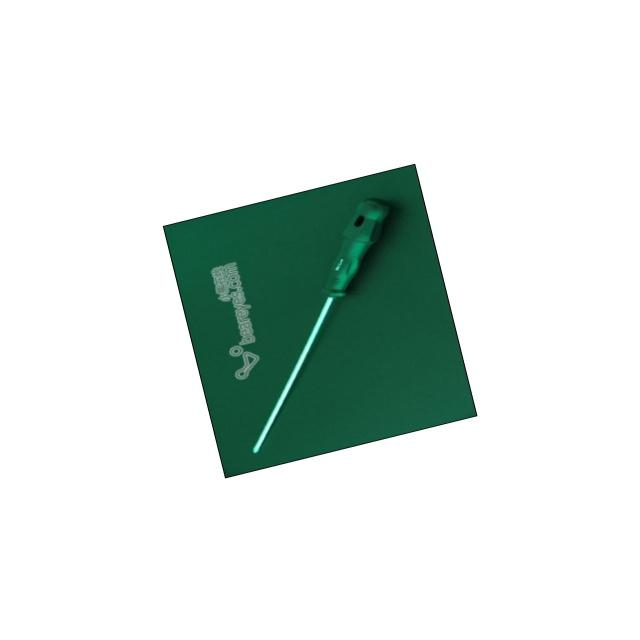screwdriver: (193, 188, 445, 458)
